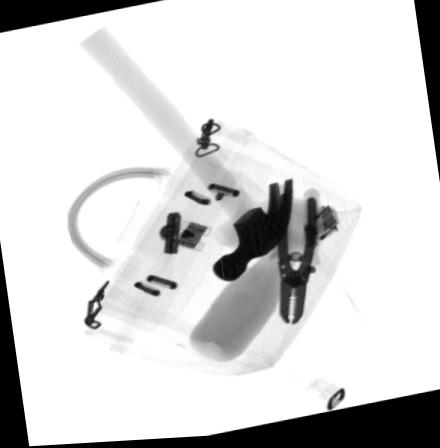Hammer: (77, 28, 292, 285)
Pliers: (268, 192, 320, 330)
